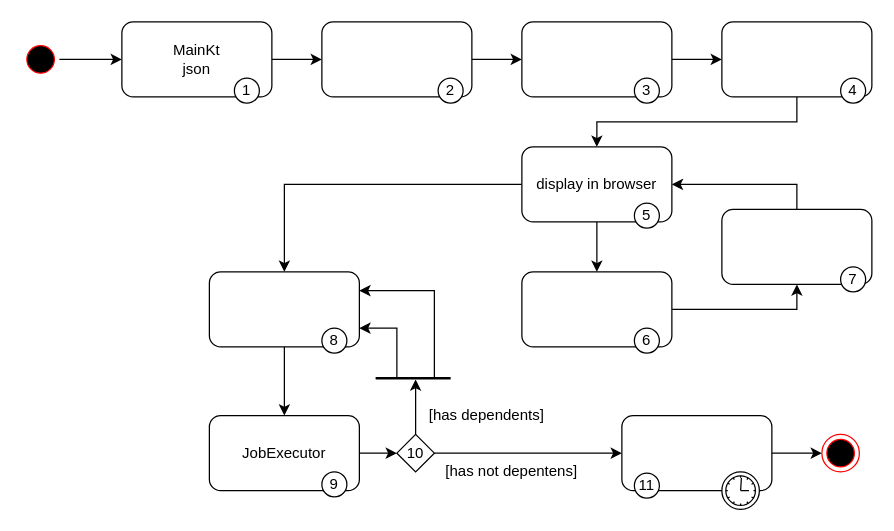
Image size: 894x531. Some labels were removed from this diagram. The shapes that lost their labels are listed below. From the top down, each one's box as (x1, y1, x2, y2) in pixels, then its label:
(321, 21, 472, 97): pom analysis
(521, 21, 672, 97): create release plan
(721, 21, 872, 97): serialize into release.json
(721, 208, 872, 284): save
(208, 271, 359, 347): release
(521, 271, 672, 347): manipulate
(621, 414, 772, 491): wait all jobs to compete
